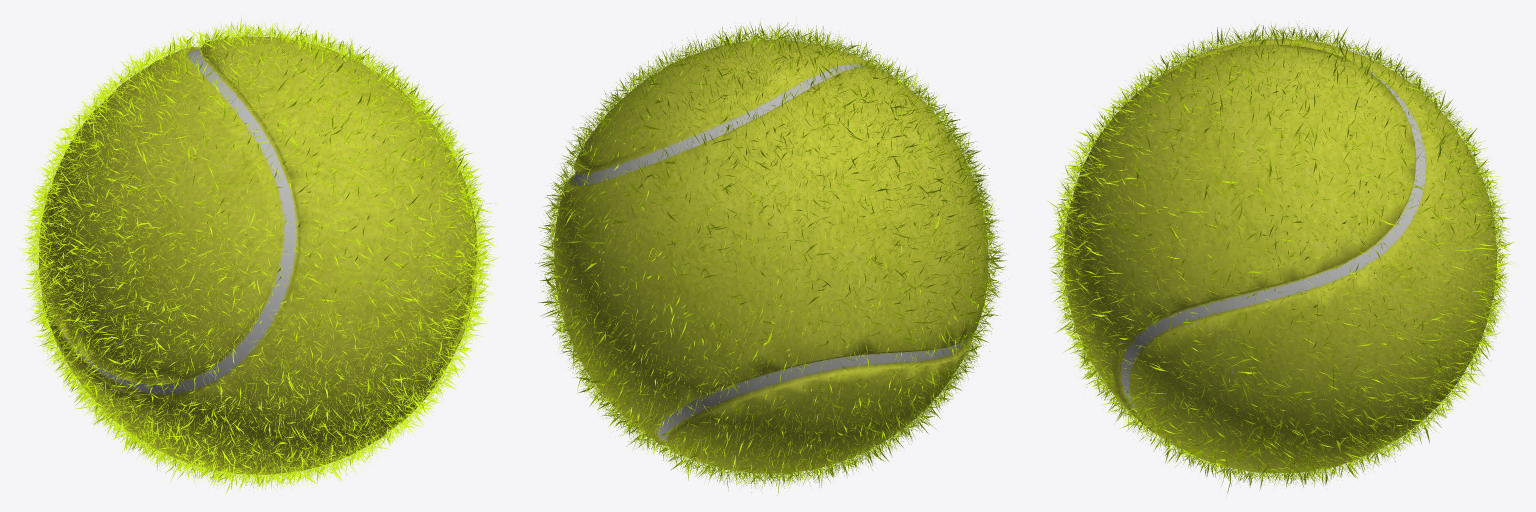
Rendered from ball_optimized.glb.
The picture shows the model from 3 angles, left to right: view 1: azimuth 30°, elevation 25°; view 2: azimuth 150°, elevation 25°; view 3: azimuth 270°, elevation 25°; orthographic projection.
Visible parts, largest first — view 1: Object_2, Object_3; view 2: Object_2, Object_3; view 3: Object_2, Object_3.
Part boxes in pixels (x1,y1,x2,y2): Object_2: (38,36,477,474); Object_3: (19,15,498,493); Object_2: (554,39,988,473); Object_3: (535,19,1006,495); Object_2: (1063,39,1497,473); Object_3: (1048,22,1515,493).
Bounding box in the file's own units: 6.84 × 6.76 × 6.82.
2 materials, 1 textured.
